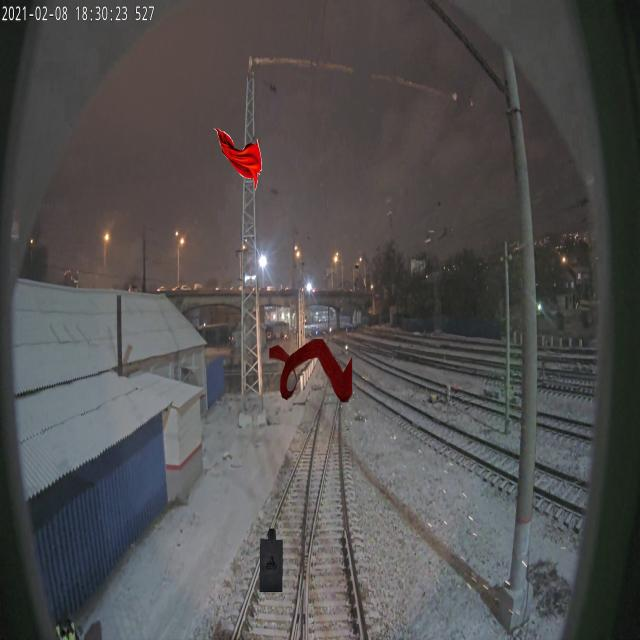floating object: (269, 338, 353, 402), (214, 127, 262, 191)
plastic bag: (259, 528, 283, 592)
